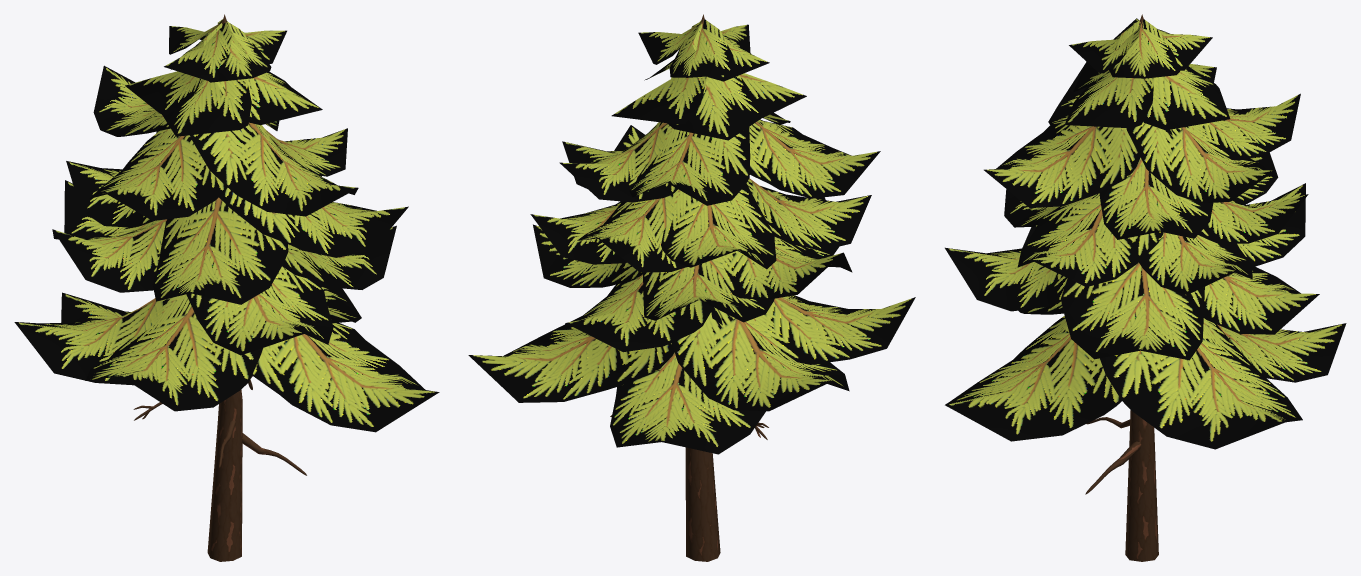
Rendered from PineTree_1.glb.
The picture shows the model from 3 angles, left to right: view 1: azimuth 30°, elevation 25°; view 2: azimuth 150°, elevation 25°; view 3: azimuth 270°, elevation 25°; orthographic projection.
Visible parts, largest first — view 1: PineTree_1; view 2: PineTree_1; view 3: PineTree_1.
Part boxes in pixels (x1=…): PineTree_1: x1=14, y1=14, x2=439, y2=561; PineTree_1: x1=468, y1=14, x2=915, y2=561; PineTree_1: x1=945, y1=14, x2=1346, y2=561.
Size of the model in its own units: 2.98 by 4.5 by 3.03.
2 materials, 2 textured.
